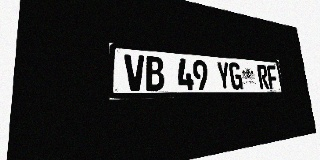4: (176, 58, 194, 90)
9: (192, 59, 209, 90)
B: (145, 56, 165, 91)
F: (266, 65, 279, 89)
G: (228, 62, 243, 90)
R: (257, 64, 270, 89)
V: (124, 54, 146, 91)
Y: (216, 61, 231, 90)
